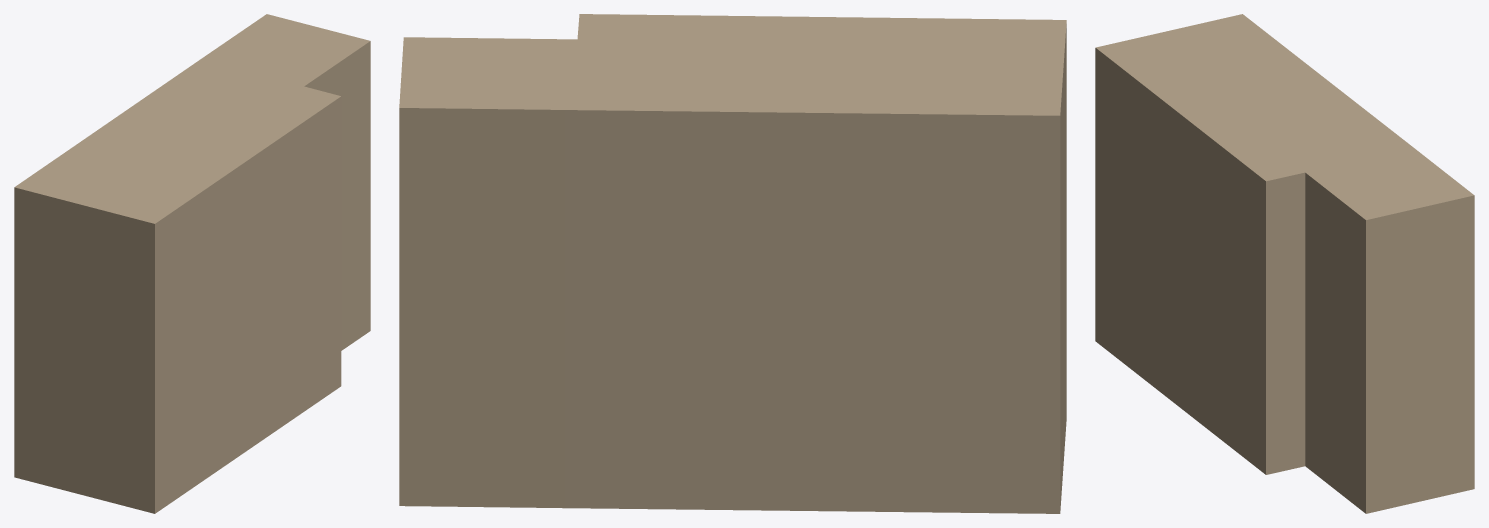
File: bld_106415346.dae
The picture shows the model from 3 angles, left to right: view 1: azimuth 30°, elevation 25°; view 2: azimuth 150°, elevation 25°; view 3: azimuth 270°, elevation 25°; orthographic projection. The views are drawn at different scales.
Visible parts, largest first — view 1: bld_106415346; view 2: bld_106415346; view 3: bld_106415346.
Boxes of the visible parts, x1,y1,x2,y2 form: bld_106415346: (14,14,370,513); bld_106415346: (399,14,1066,513); bld_106415346: (1095,14,1474,513).
Bounding box in the file's own units: 12.05 × 9.36 × 8.
